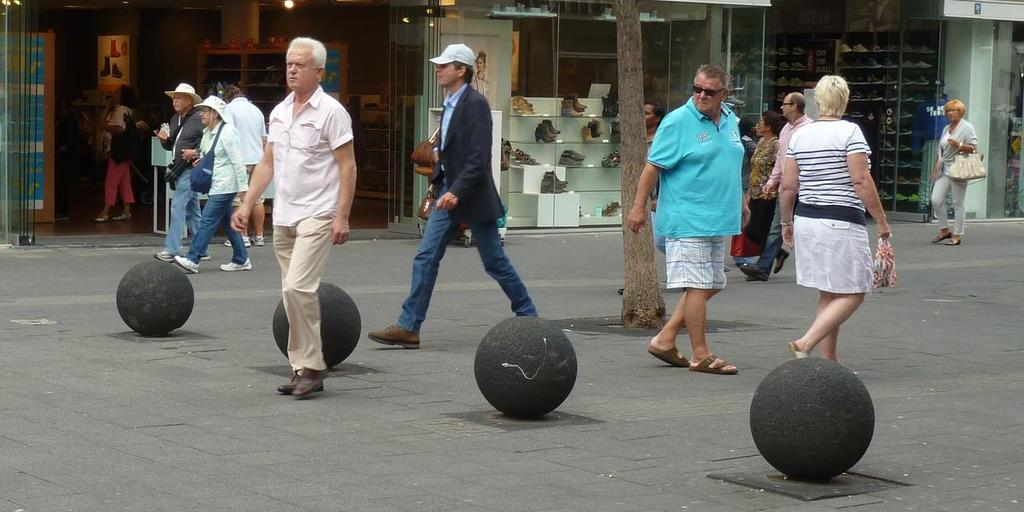Ball: (750, 352, 878, 486), (473, 314, 575, 422), (271, 282, 363, 372), (115, 256, 195, 340)
